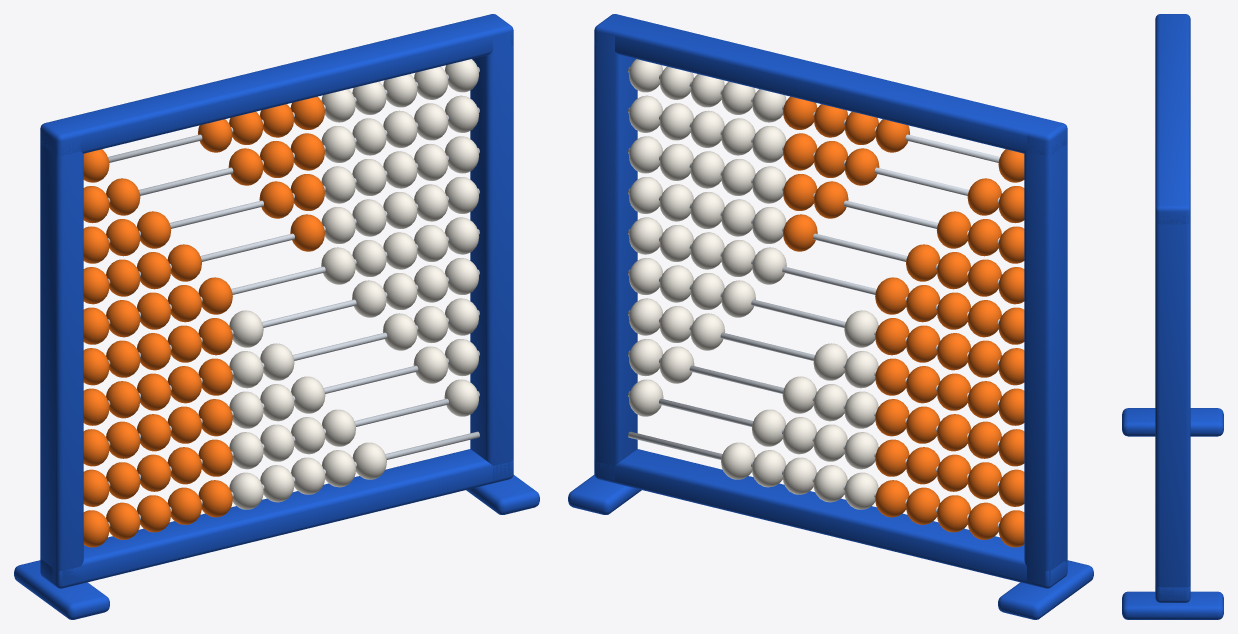
Rendered from abakus.glb.
The picture shows the model from 3 angles, left to right: view 1: azimuth 30°, elevation 25°; view 2: azimuth 150°, elevation 25°; view 3: azimuth 270°, elevation 25°; orthographic projection. The views are drawn at different scales.
Visible parts, largest first — view 1: Frame_Left, Frame_Top, Frame_Right, Frame_Bottom, Foot_Left, Foot_Right, Bead_2_3, Bead_5_6, Bead_1_2, Bead_3_4, Bead_4_5, Bead_6_7 (+104 smaller); view 2: Frame_Left, Frame_Top, Frame_Right, Frame_Bottom, Foot_Left, Foot_Right, Bead_2_3, Bead_5_6, Bead_1_2, Bead_3_4, Bead_4_5, Bead_6_7 (+104 smaller); view 3: Frame_Right, Frame_Top, Foot_Right, Foot_Left, Frame_Bottom.
Boxes of the visible parts, box(x1,y1,x2,y2) form: Frame_Left: box(40, 128, 83, 588); Frame_Top: box(40, 14, 513, 155); Frame_Right: box(470, 30, 513, 481); Frame_Bottom: box(40, 449, 513, 588); Foot_Left: box(14, 560, 109, 619); Foot_Right: box(466, 474, 539, 514); Bead_2_3: box(259, 181, 294, 218); Bead_5_6: box(352, 280, 386, 317); Bead_1_2: box(228, 148, 263, 185); Bead_3_4: box(290, 214, 324, 251); Bead_4_5: box(321, 247, 355, 284); Bead_6_7: box(382, 313, 417, 350); Frame_Left: box(1024, 127, 1067, 586); Frame_Top: box(594, 14, 1067, 155); Frame_Right: box(594, 30, 637, 480); Frame_Bottom: box(594, 449, 1067, 588); Foot_Left: box(998, 560, 1093, 619); Foot_Right: box(568, 474, 641, 514); Bead_2_3: box(813, 181, 848, 218); Bead_5_6: box(721, 280, 755, 317); Bead_1_2: box(844, 148, 879, 185); Bead_3_4: box(783, 214, 817, 251); Bead_4_5: box(752, 247, 786, 284); Bead_6_7: box(690, 313, 725, 350); Frame_Right: box(1155, 199, 1190, 602); Frame_Top: box(1155, 14, 1190, 224); Foot_Right: box(1122, 591, 1223, 619); Foot_Left: box(1122, 408, 1223, 436); Frame_Bottom: box(1155, 586, 1190, 602).
Size of the model in its own units: 12.2 by 11.6 by 2.6.
